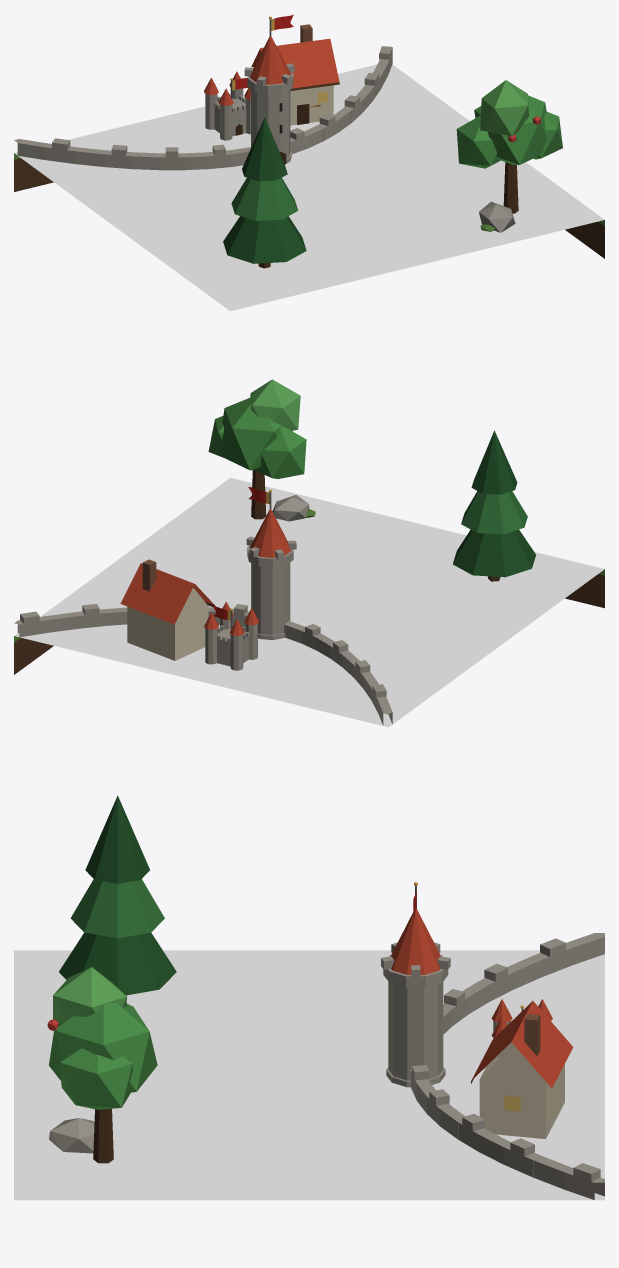
File: cap.glb
3 views of the same model, one above another, from view 1: azimuth 30°, elevation 25°; view 2: azimuth 150°, elevation 25°; view 3: azimuth 270°, elevation 25° (orthographic). The views are drawn at different scales.
Visible parts, largest first — view 1: cap; view 2: cap; view 3: cap.
Part boxes in pixels (x1=…): cap: x1=14, y1=14, x2=604, y2=311; cap: x1=14, y1=379, x2=604, y2=727; cap: x1=14, y1=795, x2=604, y2=1200.
Size of the model in its own units: 2 by 0.96 by 2.
